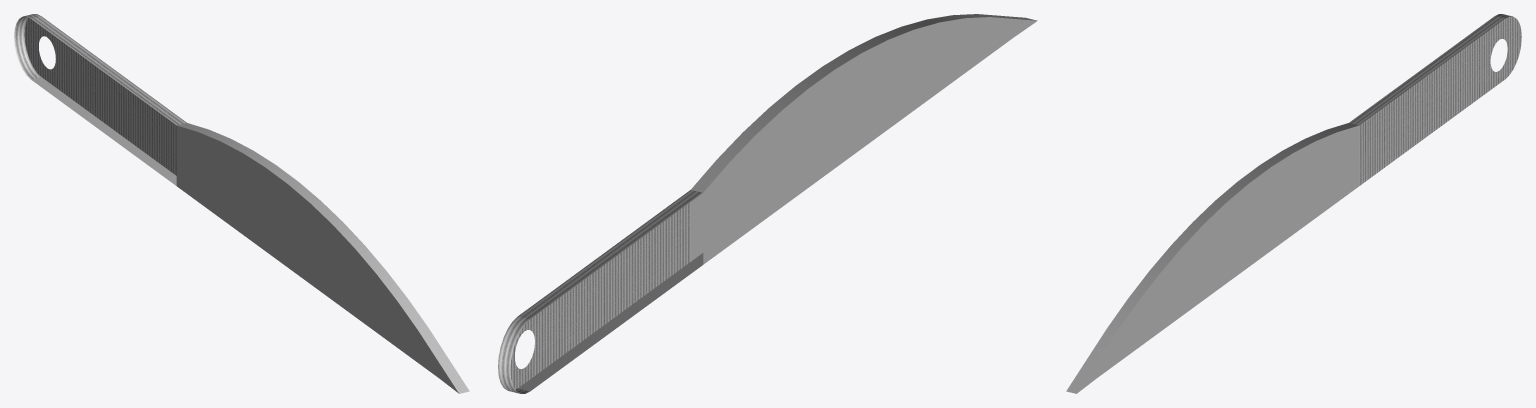
The model's file is model_align.obj.
3 views of the same model, side by side, from view 1: azimuth 30°, elevation 25°; view 2: azimuth 150°, elevation 25°; view 3: azimuth 330°, elevation 25° (orthographic). The views are drawn at different scales.
Visible parts, largest first — view 1: mesh1_mesh1-geometry; view 2: mesh1_mesh1-geometry; view 3: mesh1_mesh1-geometry.
Boxes of the visible parts, x1,y1,x2,y2 form: mesh1_mesh1-geometry: (14,14,469,393); mesh1_mesh1-geometry: (498,14,1037,393); mesh1_mesh1-geometry: (1066,14,1521,393).
Bounding box in the file's own units: 0.00319 × 0.0245 × 0.2341.
